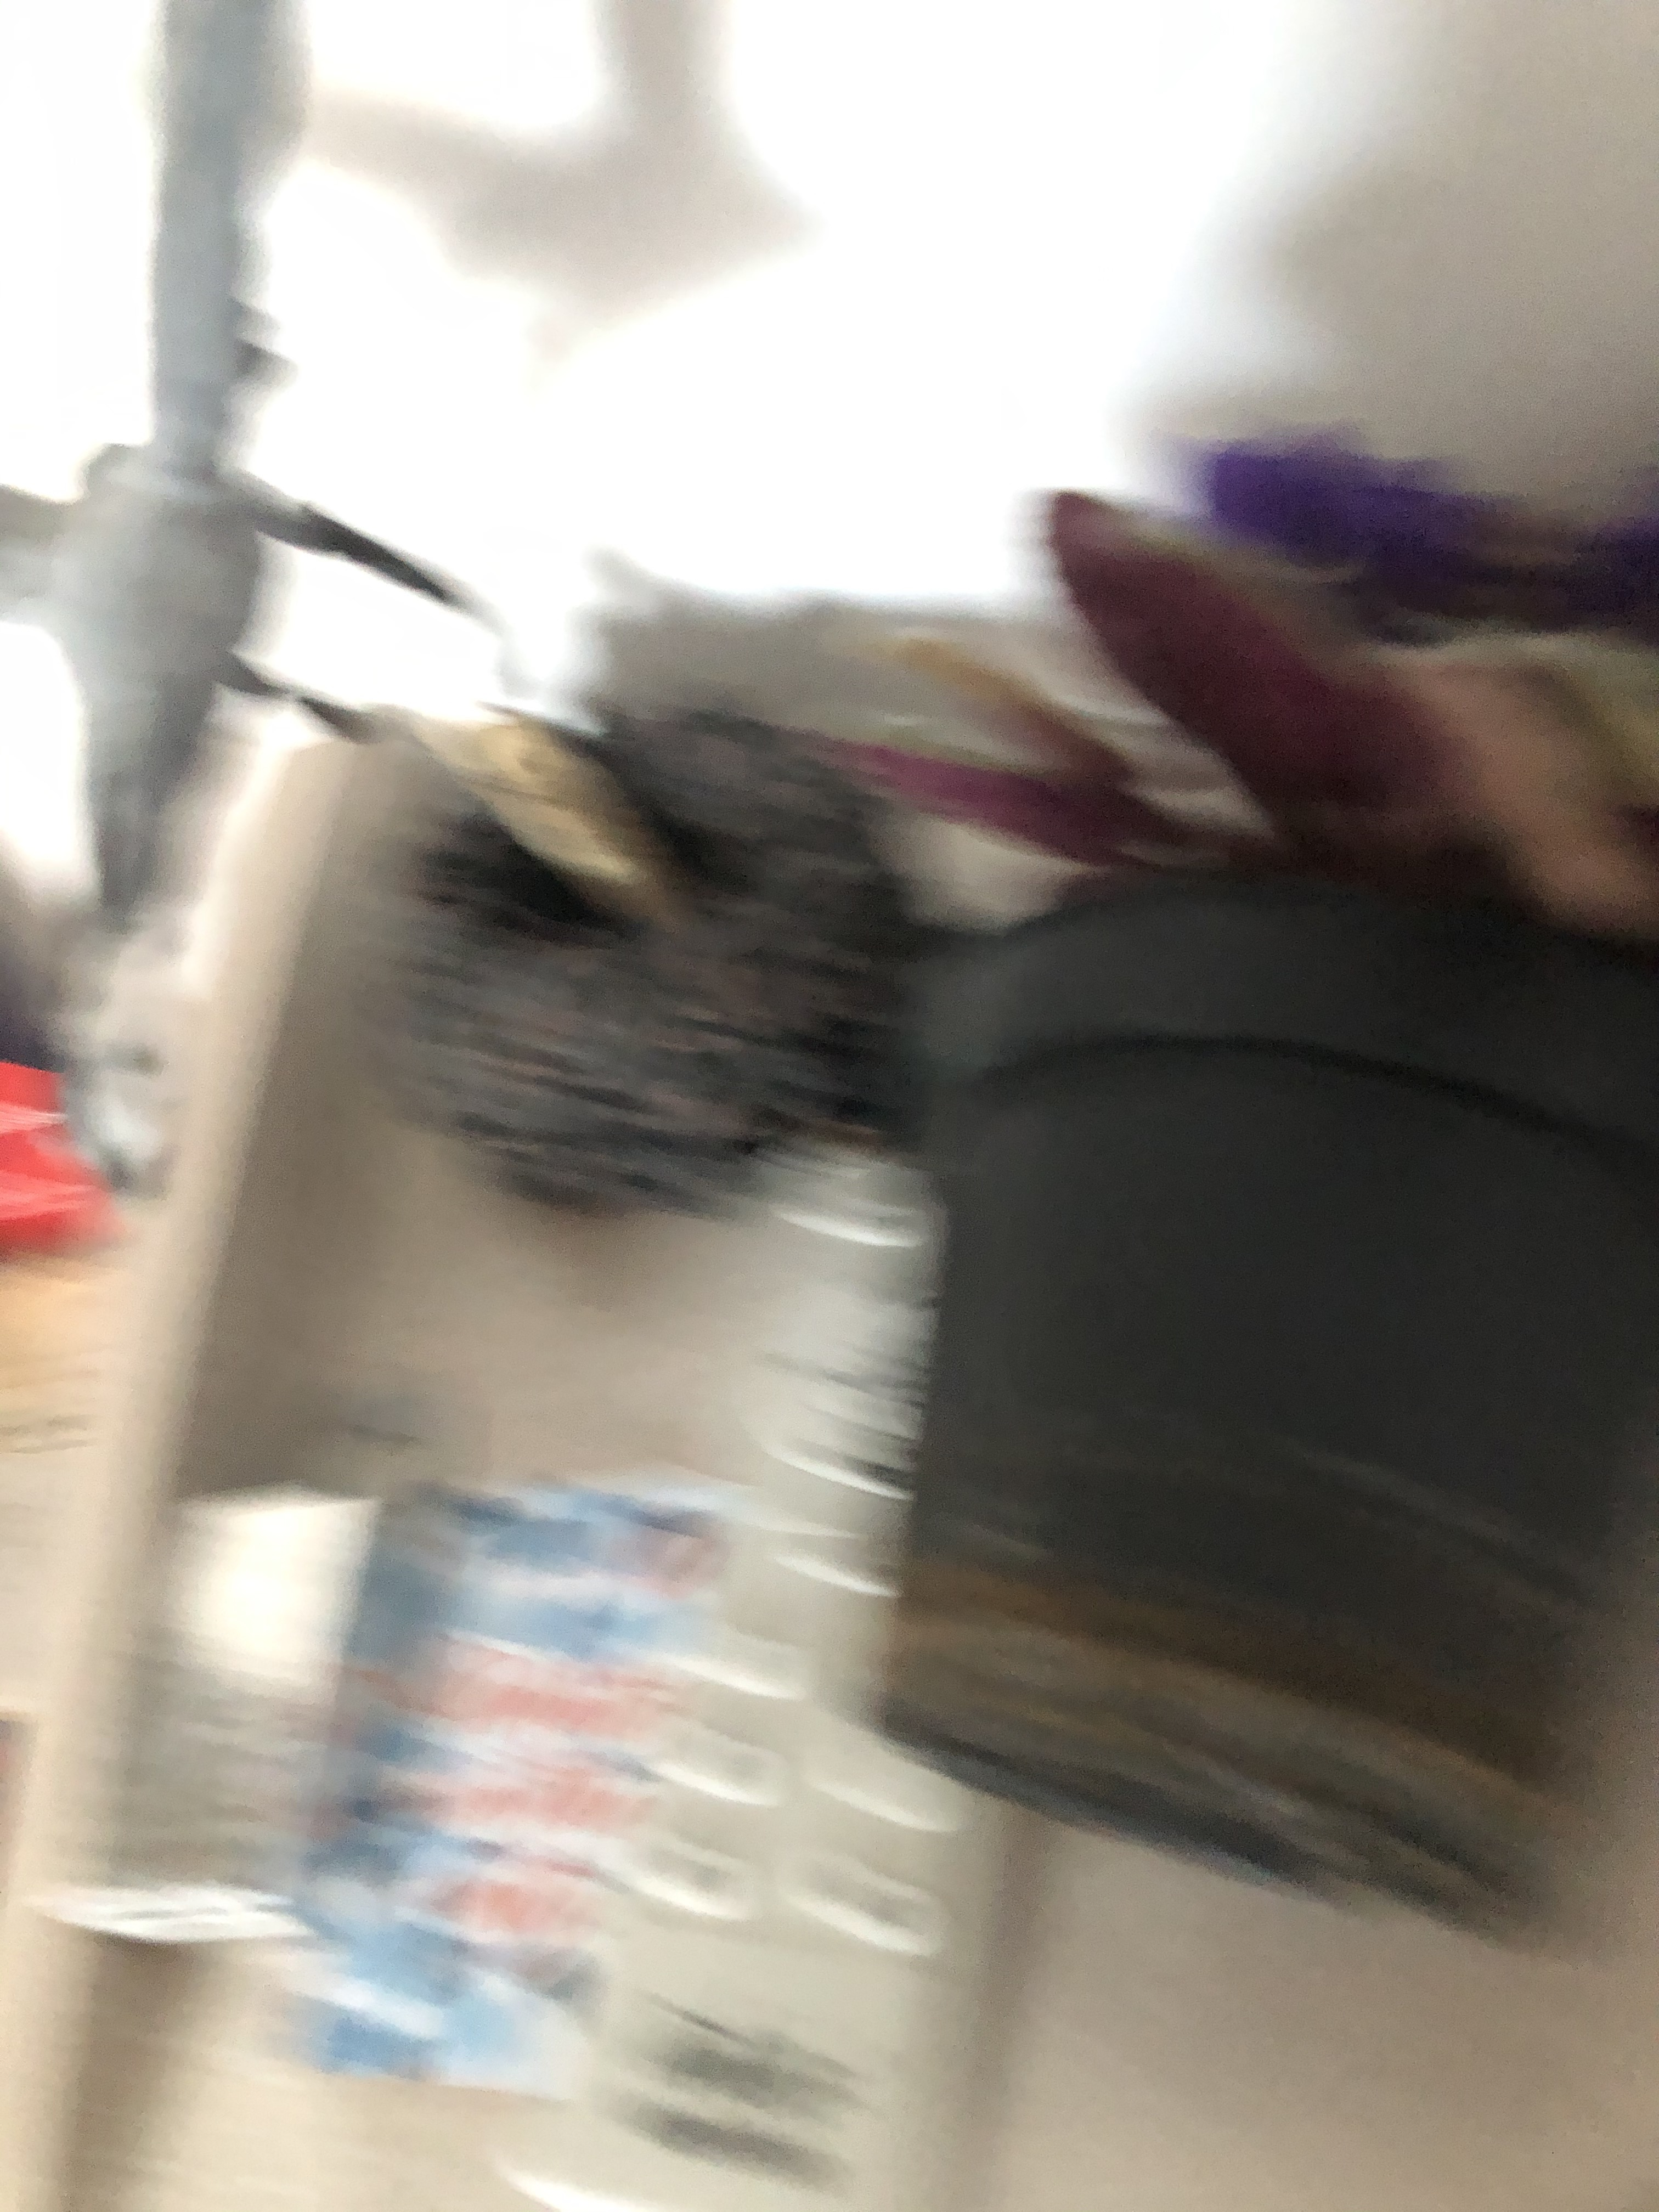ignore: (796, 308, 1650, 954)
